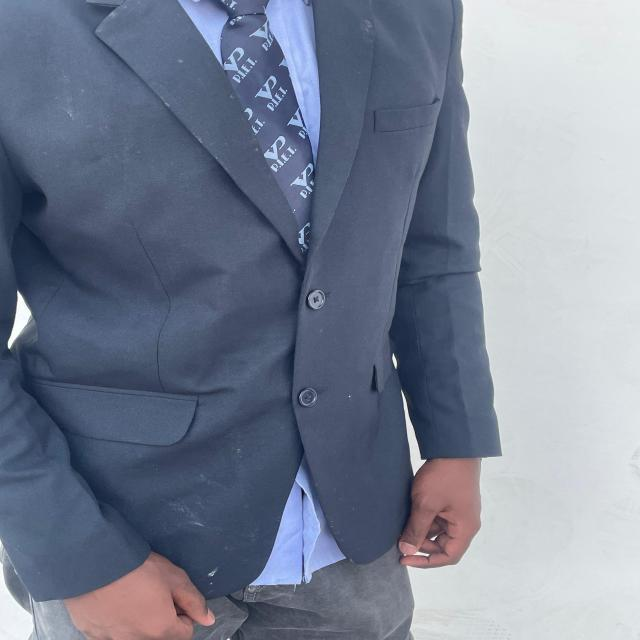Tie: (216, 1, 316, 256)
uniform: (1, 1, 502, 638)
